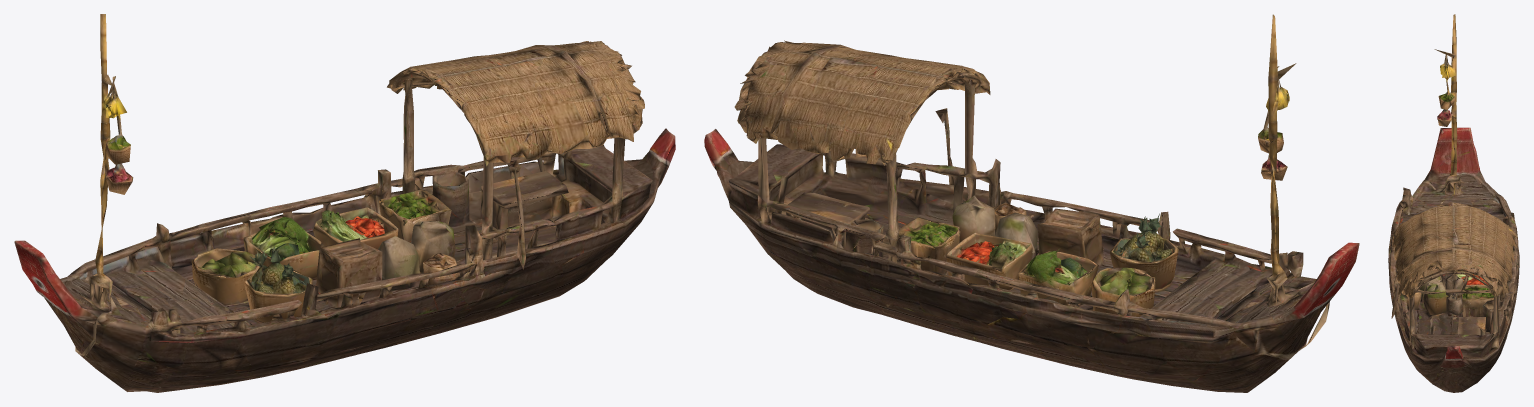
File: ghe-cho-noi.glb
3 renders of one model, left to right at view 1: azimuth 30°, elevation 25°; view 2: azimuth 150°, elevation 25°; view 3: azimuth 270°, elevation 25°, orthographic. The views are drawn at different scales.
Size of the model in its own units: 0.9974 by 0.5692 by 0.2817.
Materials: 1 (1 with a texture image).
